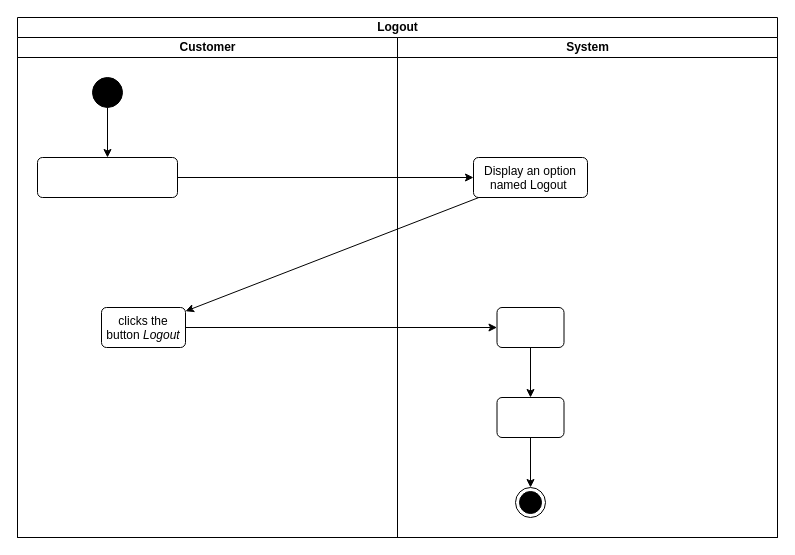
Some shapes in this 795 by 555 pixel diagram are drawn without their labels. The centre of each missing label's shape, as x and y in pixels:
"cancel the session" belongs at [530,417].
"choose the avatar in the Main page" belongs at [107,177].
"reload the website" belongs at [530,327].
